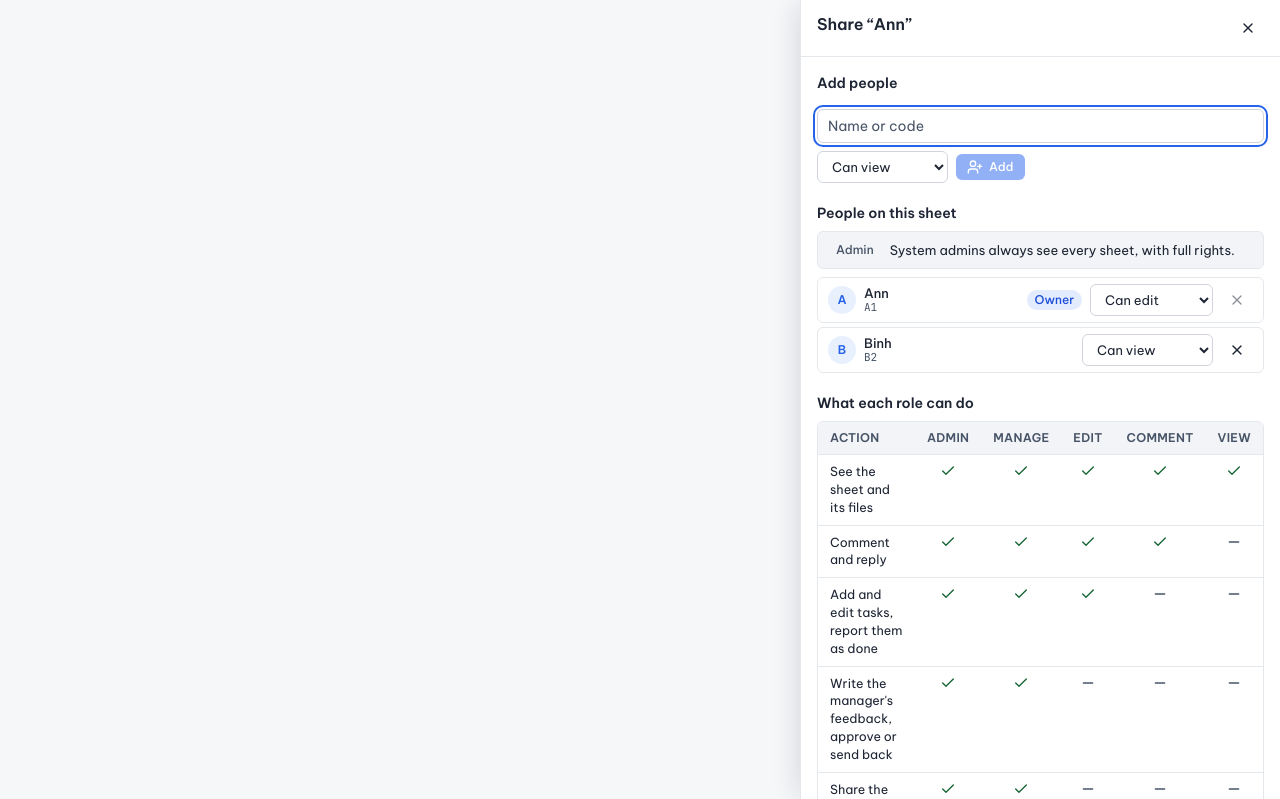
Scenario: ShareSheetDrawer › shows the reason when the server refuses
Expected: the list named "Sheet members" is shown, [817,277,1264,373]
Step 1. Select "Can manage" in the dropdown named "Role of Binh" → {"x": 1148, "y": 350}, box [1082,334,1213,366]
(page scrolled)
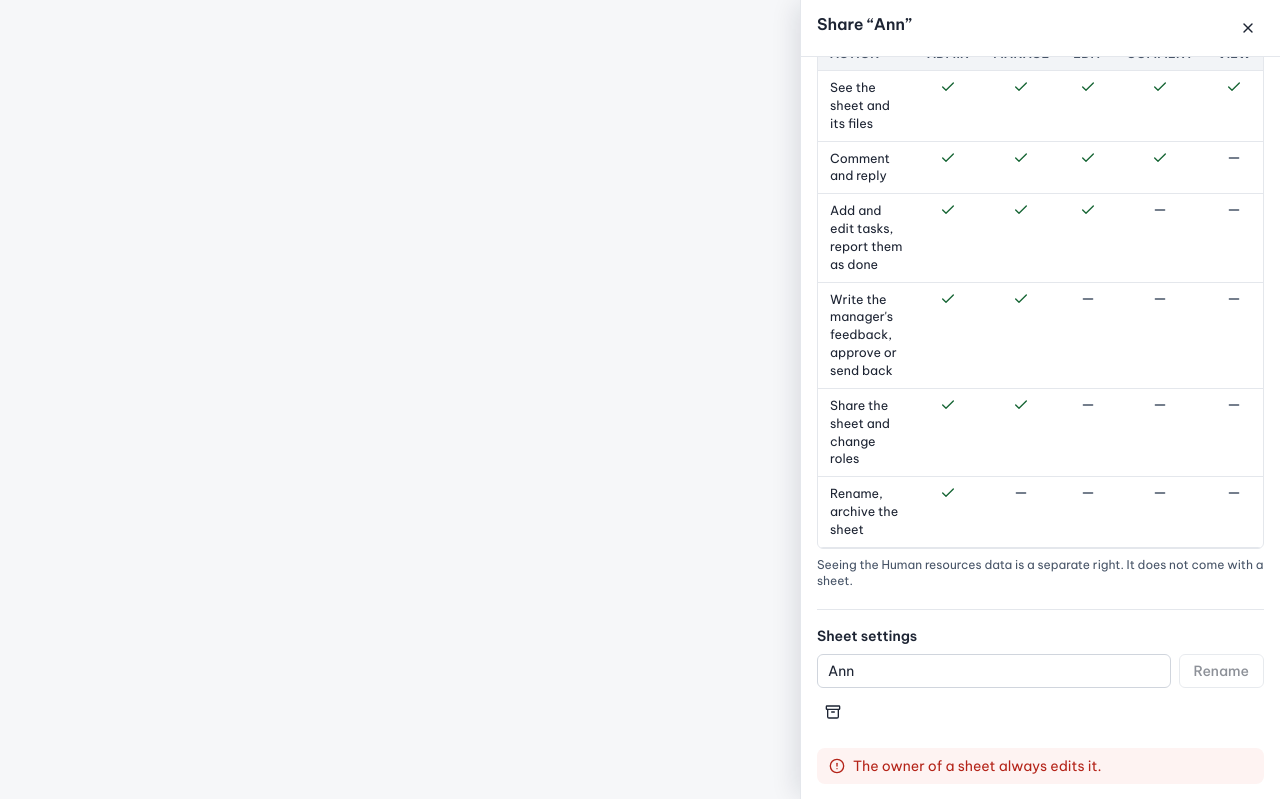
Expected: the message shows "always edits it", [853,757,1102,775]
